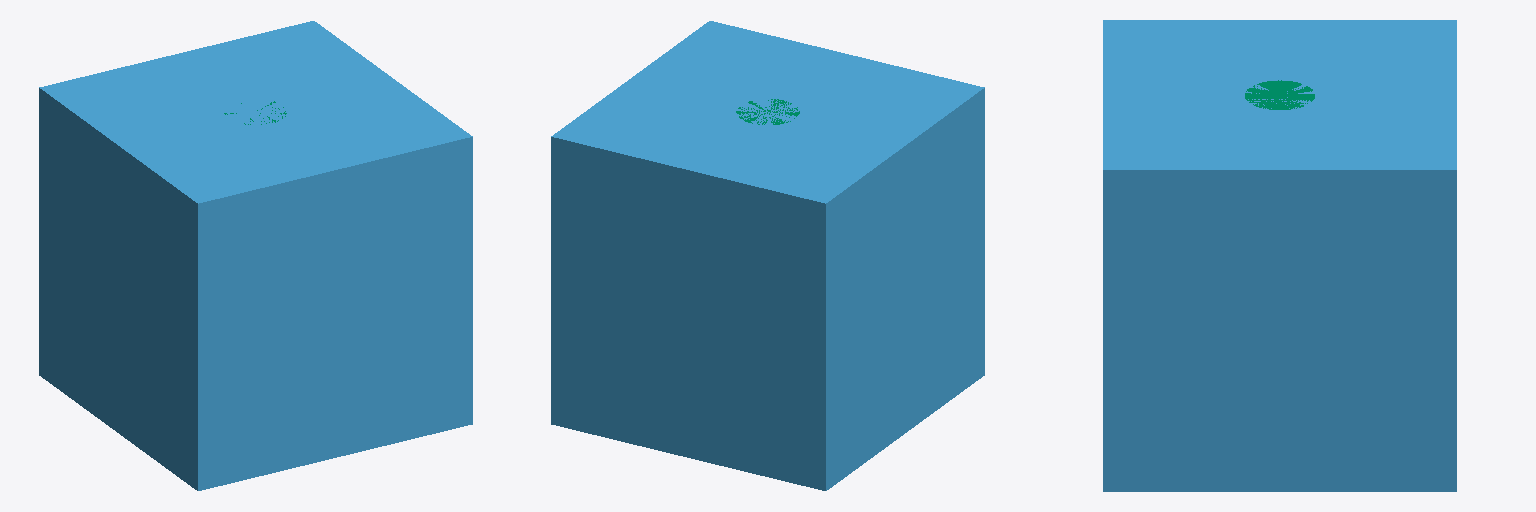
URDF robot description (simple_rope):
<?xml version="1.0" ?>

<robot name="simple_rope">
  <!-- Base link (fixed to world) -->
  <link name="dummy"> 
  </link>

  <joint name="dummy_joint" type="fixed">
     <parent link="dummy"/>
     <child link="base_link"/>
  </joint>

  <link name="base_link">
    <inertial>
      <mass value="2.0"/>
      <origin xyz="0 0 0" rpy="0 0 0"/>
      <inertia ixx="0.2" ixy="0.0" ixz="0.0" iyy="0.2" iyz="0.0" izz="0.2"/>
    </inertial>
    <visual>
      <origin xyz="0 0 0" rpy="0 0 0" />
      <geometry>
        <box size="0.2 0.2 0.2"/>
      </geometry>
      <material name=""/>
    </visual>
    <collision>
      <origin
        xyz="0 0 0"
        rpy="0 0 0" />
      <geometry>
        <box size="0.2 0.2 0.2"/>
      </geometry>
    </collision>
  </link>

   <!-- Create the first link connected to the base -->
  <link name="rope_link_0">
    <inertial>
      <origin xyz="0.0 0.0 0.0" rpy="0.0 0.0 0.0"/>
      <mass value="0.1"/>
      <origin xyz="0 0 0.1"/>
      <inertia ixx="0.01" ixy="0" ixz="0" iyy="0.01" iyz="0" izz="0.01"/>
    </inertial>
    <visual>
      <origin xyz="0.0 0.0 0.0" rpy="0.0 0.0 0.0"/>
      <geometry>
        <cylinder length="0.2" radius="0.02"/>
      </geometry>
      <material name=""/>
    </visual>
    <collision>
      <origin xyz="0.0 0.0 0.0" rpy="0.0 0.0 0.0"/>
      <geometry>
        <cylinder length="0.2" radius="0.02"/>
      </geometry>
      <material name=""/>
    </collision>
  </link>
  
  <joint name="joint_0" type="prismatic">
    <parent link="base_link"/>
    <child link="rope_link_0"/>
    <origin xyz="0 0 0"/>
    <axis xyz="0 0 1"/>
    <limit effort="50" lower="0" upper="0.5" velocity="1.0"/>
  </joint>

  <!-- Manually add subsequent link -->
  <link name="rope_link_1">
    <inertial>
      <mass value="0.1"/>
      <origin xyz="0 0 0.1"/>
      <inertia ixx="0.01" ixy="0" ixz="0" iyy="0.01" iyz="0" izz="0.01"/>
    </inertial>
    <visual>
      <geometry>
        <cylinder length="0.2" radius="0.02"/>
      </geometry>
      <material name=""/>
    </visual>
    <collision>
      <geometry>
        <cylinder length="0.2" radius="0.02"/>
      </geometry>
      <material name=""/>
    </collision>
  </link>

  <joint name="joint_1" type="prismatic">
    <parent link="base_link"/>
    <child link="rope_link_1"/>
    <origin xyz="0 0 0.0"/>
    <axis xyz="0 0 1"/>
    <limit effort="50" lower="0" upper="0.5" velocity="1.0"/>
  </joint>

  <link name="rope_link_2">
    <inertial>
      <mass value="0.1"/>
      <origin xyz="0 0 0.1"/>
      <inertia ixx="0.01" ixy="0" ixz="0" iyy="0.01" iyz="0" izz="0.01"/>
    </inertial>
    <visual>
      <geometry>
        <cylinder length="0.2" radius="0.02"/>
      </geometry>
      <material name=""/>
    </visual>
    <collision>
      <geometry>
        <cylinder length="0.2" radius="0.02"/>
      </geometry>
      <material name=""/>
    </collision>
  </link>

  <joint name="joint_2" type="prismatic">
    <parent link="base_link"/>
    <child link="rope_link_2"/>
    <origin xyz="0 0 0.0"/>
    <axis xyz="0 0 1"/>
    <limit effort="50" lower="0" upper="0.5" velocity="1.0"/>
  </joint>

  <link name="rope_link_3">
    <inertial>
      <mass value="0.1"/>
      <origin xyz="0 0 0.1"/>
      <inertia ixx="0.01" ixy="0" ixz="0" iyy="0.01" iyz="0" izz="0.01"/>
    </inertial>
    <visual>
      <geometry>
        <cylinder length="0.2" radius="0.02"/>
      </geometry>
      <material name=""/>
    </visual>
      <collision>
        <geometry>
        <cylinder length="0.2" radius="0.02"/>
      </geometry>
      <material name=""/>
      </collision>
  </link>

  <joint name="joint_3" type="prismatic">
    <parent link="base_link"/>
    <child link="rope_link_3"/>
    <origin xyz="0 0 0.0"/>
    <axis xyz="0 0 1"/>
    <limit effort="50" lower="0" upper="0.5" velocity="1.0"/>
  </joint>

  <link name="rope_link_4">
    <inertial>
      <mass value="0.1"/>
      <origin xyz="0 0 0.1"/>
      <inertia ixx="0.01" ixy="0" ixz="0" iyy="0.01" iyz="0" izz="0.01"/>
    </inertial>
    <visual>
      <geometry>
        <cylinder length="0.2" radius="0.02"/>
      </geometry>
      <material name=""/>
    </visual>
    <collision>
      <geometry>
        <cylinder length="0.2" radius="0.02"/>
      </geometry>
      <material name=""/>
    </collision>
  </link>

  <joint name="joint_4" type="prismatic">
    <parent link="base_link"/>
    <child link="rope_link_4"/>
    <origin xyz="0 0 0.0"/>
    <axis xyz="0 0 1"/>
    <limit effort="50" lower="0" upper="0.5" velocity="1.0"/>
  </joint>

  <transmission name ="trans_0">
    <type>transmission_interface/SimpleTransmission</type>
    <joint name="joint_0">
        <hardwareInterface>hardware_interface/PositionJointInterface</hardwareInterface>
    </joint>
    <actuator name="motor_0">
        <hardwareInterface>hardware_interface/PositionJointInterface</hardwareInterface>
        <mechanicalReduction>1</mechanicalReduction>
    </actuator>
  </transmission>
  
  <transmission name ="trans_1">
    <type>transmission_interface/SimpleTransmission</type>
    <joint name="joint_1">
        <hardwareInterface>hardware_interface/PositionJointInterface</hardwareInterface>
    </joint>
    <actuator name="motor_1">
        <hardwareInterface>hardware_interface/PositionJointInterface</hardwareInterface>
        <mechanicalReduction>1</mechanicalReduction>
    </actuator>
  </transmission>

  <transmission name ="trans_2">
    <type>transmission_interface/SimpleTransmission</type>
    <joint name="joint_2">
        <hardwareInterface>hardware_interface/PositionJointInterface</hardwareInterface>
    </joint>
    <actuator name="motor_2">
        <hardwareInterface>hardware_interface/PositionJointInterface</hardwareInterface>
        <mechanicalReduction>1</mechanicalReduction>
    </actuator>
  </transmission>

  <transmission name ="trans_3">
    <type>transmission_interface/SimpleTransmission</type>
    <joint name="joint_3">
        <hardwareInterface>hardware_interface/PositionJointInterface</hardwareInterface>
    </joint>
    <actuator name="motor_3">
        <hardwareInterface>hardware_interface/PositionJointInterface</hardwareInterface>
        <mechanicalReduction>1</mechanicalReduction>
    </actuator>
  </transmission>

  <transmission name ="trans_4">
    <type>transmission_interface/SimpleTransmission</type>
    <joint name="joint_4">
        <hardwareInterface>hardware_interface/PositionJointInterface</hardwareInterface>
    </joint>
    <actuator name="motor_4">
        <hardwareInterface>hardware_interface/PositionJointInterface</hardwareInterface>
        <mechanicalReduction>1</mechanicalReduction>
    </actuator>
  </transmission>

  <!-- Gazebo plugin for controlling the rope -->
  <gazebo>
    <plugin name="ros_control" filename="libgazebo_ros_control.so">
    </plugin>
  </gazebo>

</robot>

--- Facts derived from the render (not from the file) ---
3 views of the same robot in one strip: view 1: azimuth 30°, elevation 25°; view 2: azimuth 150°, elevation 25°; view 3: azimuth 270°, elevation 25° (orthographic).
Robot: simple_rope — 7 links, 6 joints (5 prismatic, 1 fixed); root link dummy; default pose: all joints at 0.
Links seen in each view (by area): view 1: base_link; view 2: base_link; view 3: base_link, rope_link_0.
Boxes of the visible links, x1,y1,x2,y2 form: base_link: [39, 21, 472, 490]; base_link: [551, 21, 984, 490]; base_link: [1103, 20, 1456, 491]; rope_link_0: [1245, 80, 1314, 109].
Bounding box of the posed robot: 0.2 × 0.2 × 0.2 m (x, y, z).
Geometry: primitives only (box / cylinder / sphere), no mesh files.